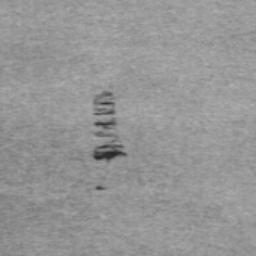Secondary rust skin: (93, 90, 118, 131), (92, 143, 128, 164), (94, 184, 108, 191)
